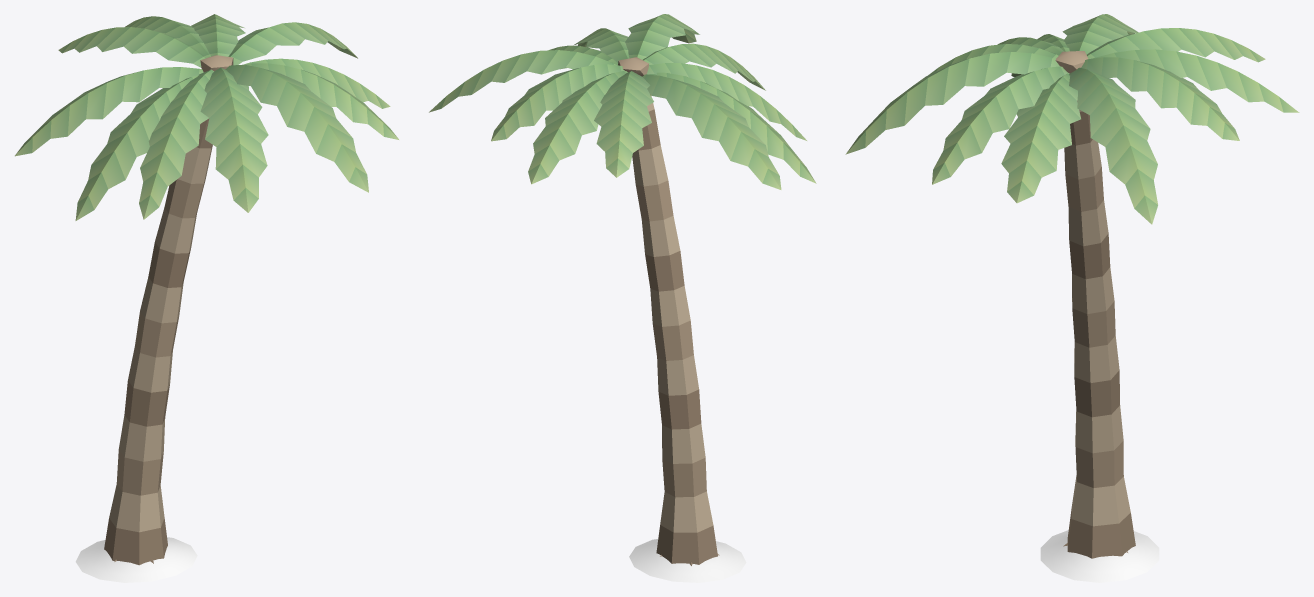
Rendered from palmera_a.glb.
3 renders of one model, left to right at view 1: azimuth 30°, elevation 25°; view 2: azimuth 150°, elevation 25°; view 3: azimuth 270°, elevation 25°, orthographic. The views are drawn at different scales.
Parts seen in each view (by area): view 1: palmera_a_hojas, palmera_a, palmera_a_arena; view 2: palmera_a_hojas, palmera_a, palmera_a_arena; view 3: palmera_a_hojas, palmera_a, palmera_a_arena.
Boxes of the visible parts, <box> form: palmera_a_hojas: <box>15,14,398,220</box>; palmera_a: <box>104,55,233,565</box>; palmera_a_arena: <box>75,537,197,582</box>; palmera_a_hojas: <box>429,14,816,189</box>; palmera_a: <box>618,57,719,565</box>; palmera_a_arena: <box>629,539,746,582</box>; palmera_a_hojas: <box>845,14,1299,224</box>; palmera_a: <box>1055,51,1135,558</box>; palmera_a_arena: <box>1040,530,1159,582</box>.
Size of the model in its own units: 5.9 by 8.03 by 5.98.
